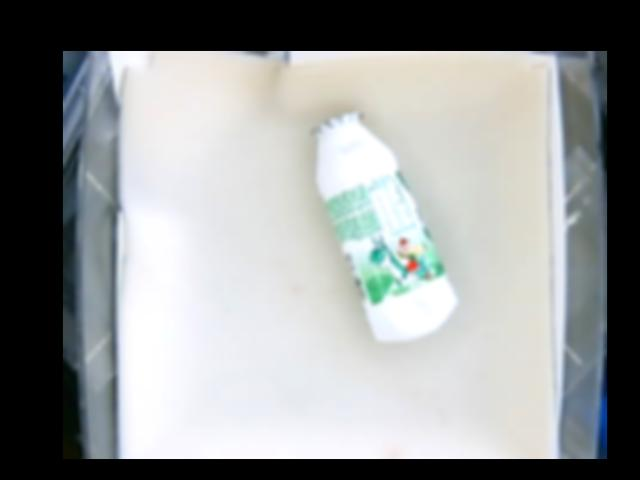Bottle: (309, 113, 459, 345)
